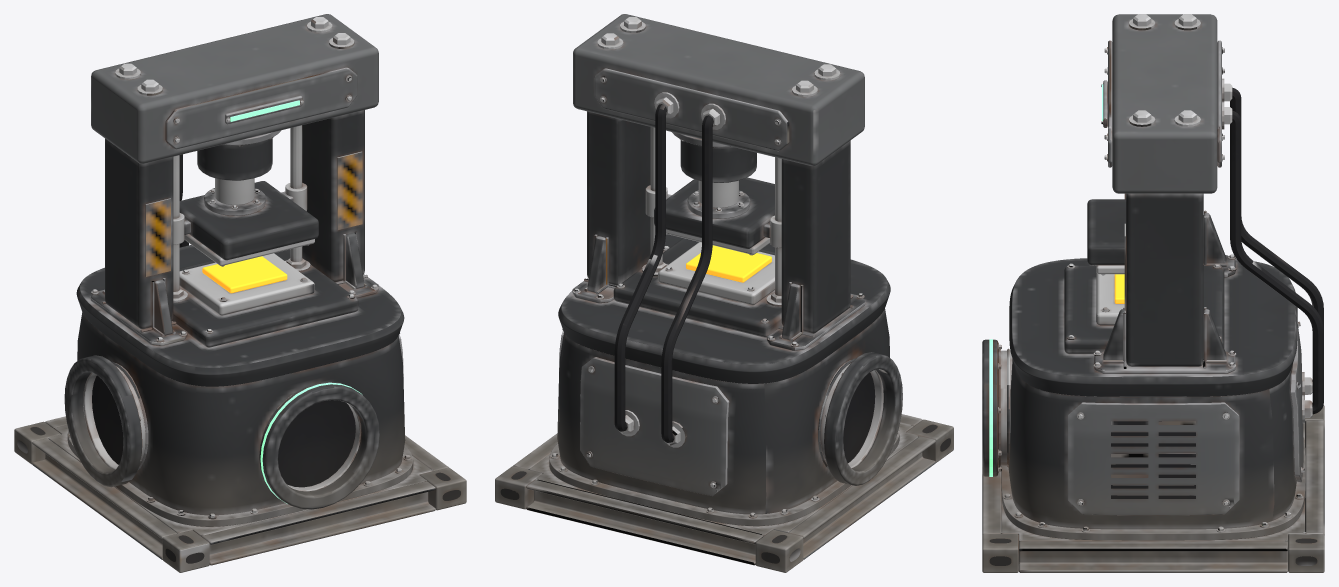
The model's file is SM_Constructor.glb.
3 views of the same model, side by side, from view 1: azimuth 30°, elevation 25°; view 2: azimuth 150°, elevation 25°; view 3: azimuth 270°, elevation 25° (orthographic). The views are drawn at different scales.
Parts seen in each view (by area): view 1: SM_Constructor, SM_Constructor_Ram; view 2: SM_Constructor, SM_Constructor_Ram; view 3: SM_Constructor, SM_Constructor_Ram.
Part boxes in pixels (x1,y1,x2,y2): SM_Constructor: (14, 14, 466, 572); SM_Constructor_Ram: (173, 178, 318, 266); SM_Constructor: (495, 14, 953, 572); SM_Constructor_Ram: (645, 177, 781, 255); SM_Constructor: (982, 14, 1324, 572); SM_Constructor_Ram: (1087, 199, 1125, 275).
Bounding box in the file's own units: 1.5 × 2.11 × 1.5.
8 materials, 6 textured.
